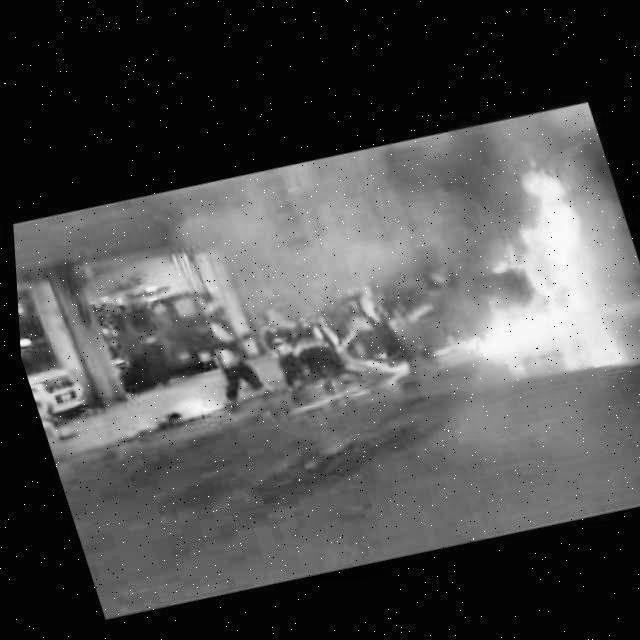Fire: (409, 147, 626, 371)
